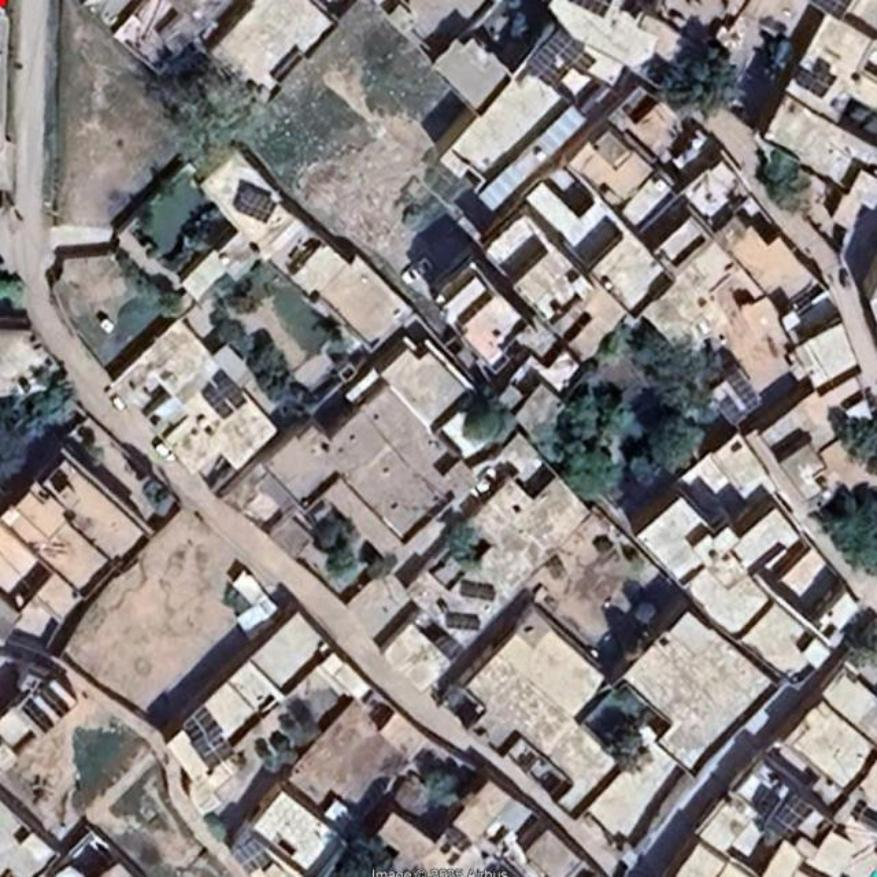Solarpanel: (528, 31, 589, 84), (766, 797, 813, 840), (235, 187, 277, 222), (233, 840, 270, 874), (196, 737, 233, 771), (460, 580, 494, 603), (448, 613, 480, 629)
